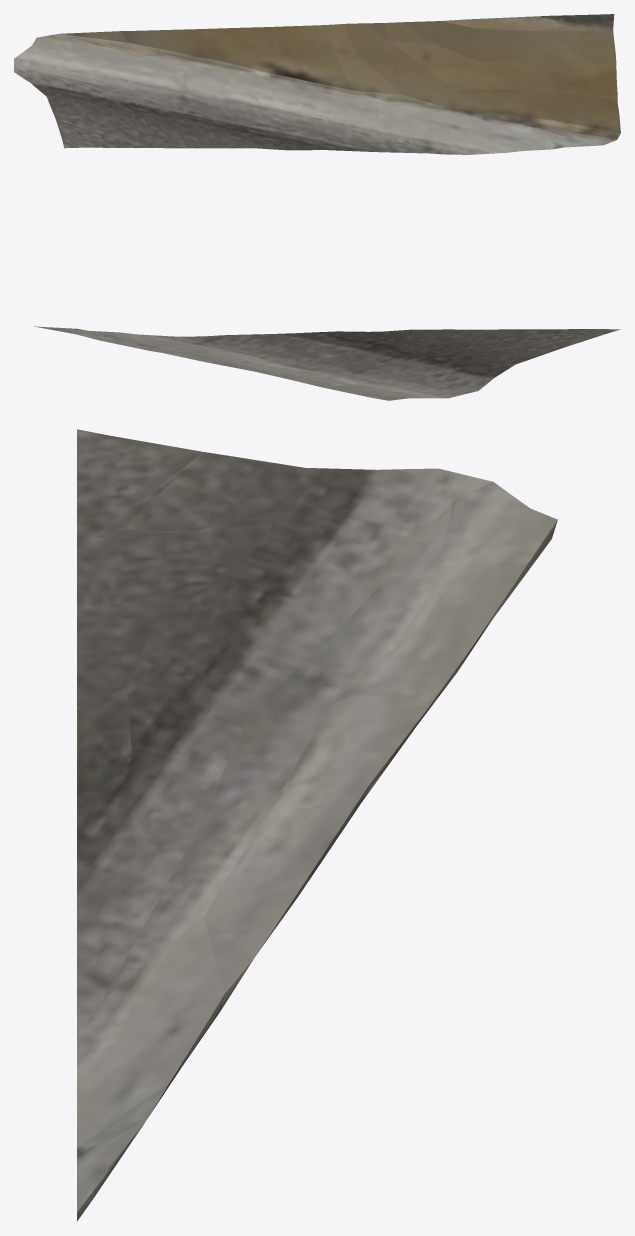
The picture shows the model from 3 angles, top to bottom: view 1: azimuth 30°, elevation 25°; view 2: azimuth 150°, elevation 25°; view 3: azimuth 270°, elevation 25°; orthographic projection. The views are drawn at different scales.
Bounding box in the file's own units: 2.56 × 0.5651 × 0.9567.
Materials: 1 (1 with a texture image).
